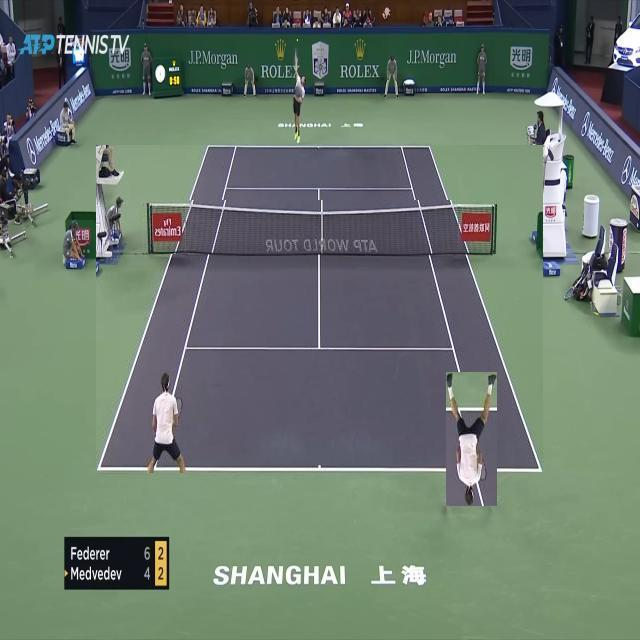court: (96, 145, 543, 473)
net: (144, 200, 498, 254)
player: (446, 372, 497, 506)
